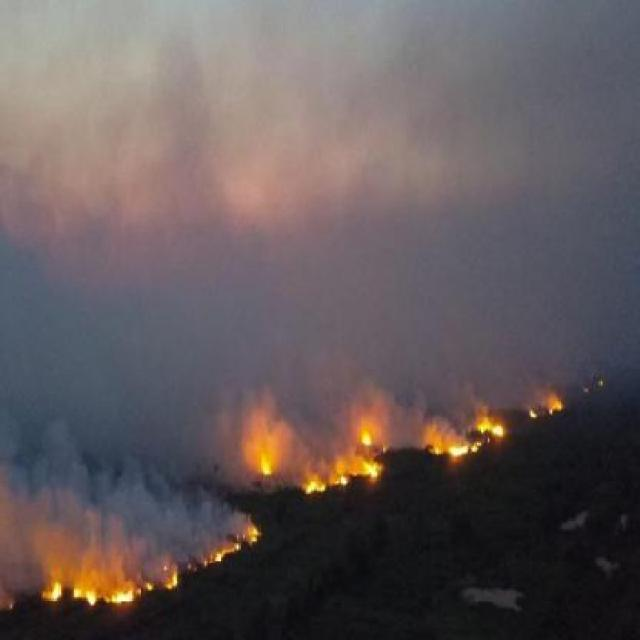Fire: (74, 582, 97, 606), (478, 418, 504, 438), (212, 544, 236, 564), (44, 580, 61, 603), (111, 588, 134, 604), (448, 442, 468, 460), (304, 478, 326, 494), (548, 398, 564, 416), (164, 570, 178, 590), (364, 460, 378, 478), (333, 473, 349, 487), (361, 427, 372, 447), (250, 522, 258, 546), (262, 456, 272, 474), (528, 408, 537, 422)
